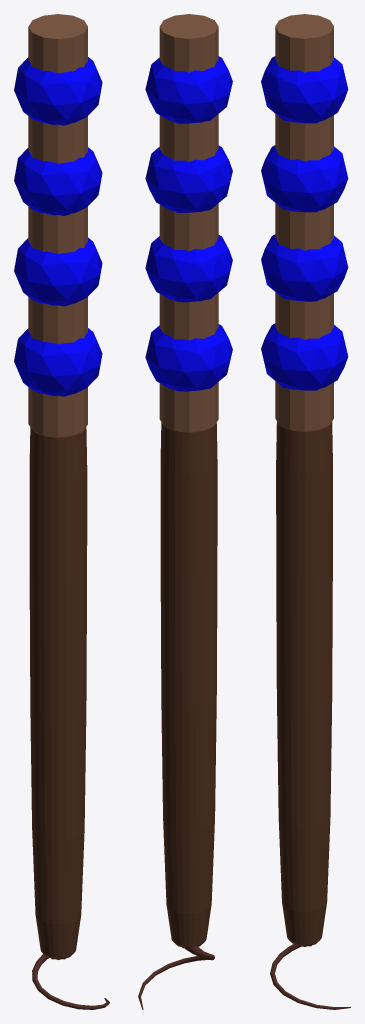
File: Wand 39.glb
3 views of the same model, side by side, from view 1: azimuth 30°, elevation 25°; view 2: azimuth 210°, elevation 25°; view 3: azimuth 330°, elevation 25° (orthographic).
Visible parts, largest first — view 1: GeneratedWand; view 2: GeneratedWand; view 3: GeneratedWand.
Boxes of the visible parts, <box> form: GeneratedWand: <box>14,14,109,1009</box>; GeneratedWand: <box>138,14,232,1009</box>; GeneratedWand: <box>261,14,350,1009</box>.
Size of the model in its own units: 0.0462 by 0.5137 by 0.0428.
